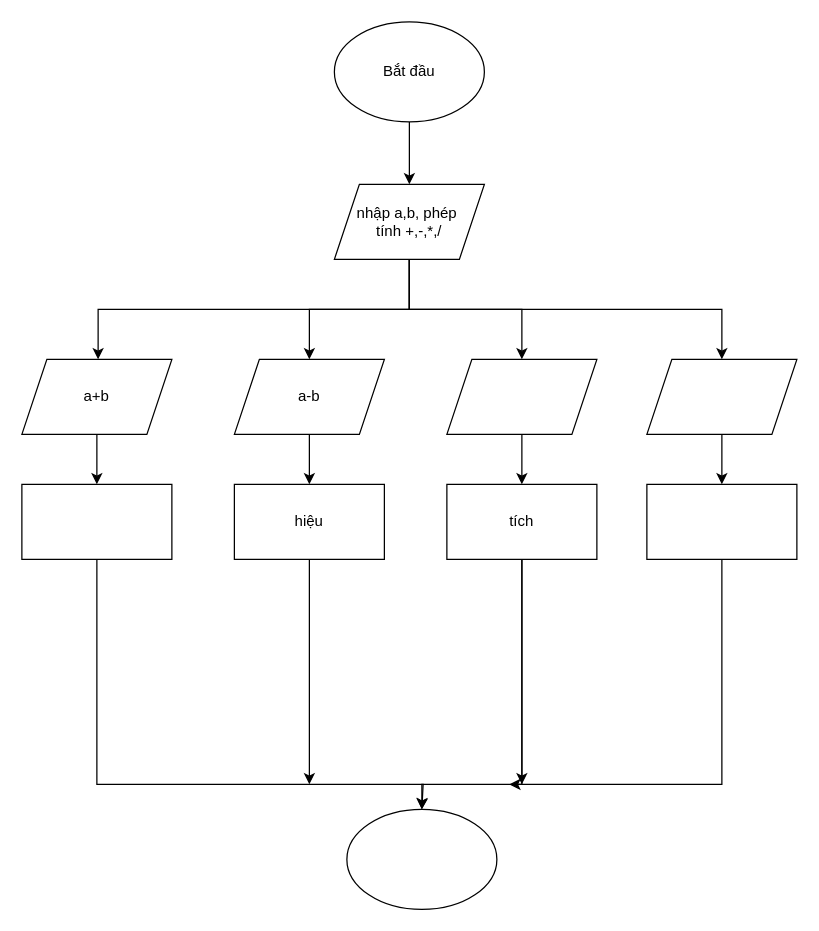
This 819x931 diagram has some shape labels left out. Each missing label, with the centre of its shape:
a*b: point 521,396
a/b: point 721,396
tổng: point 96,521
